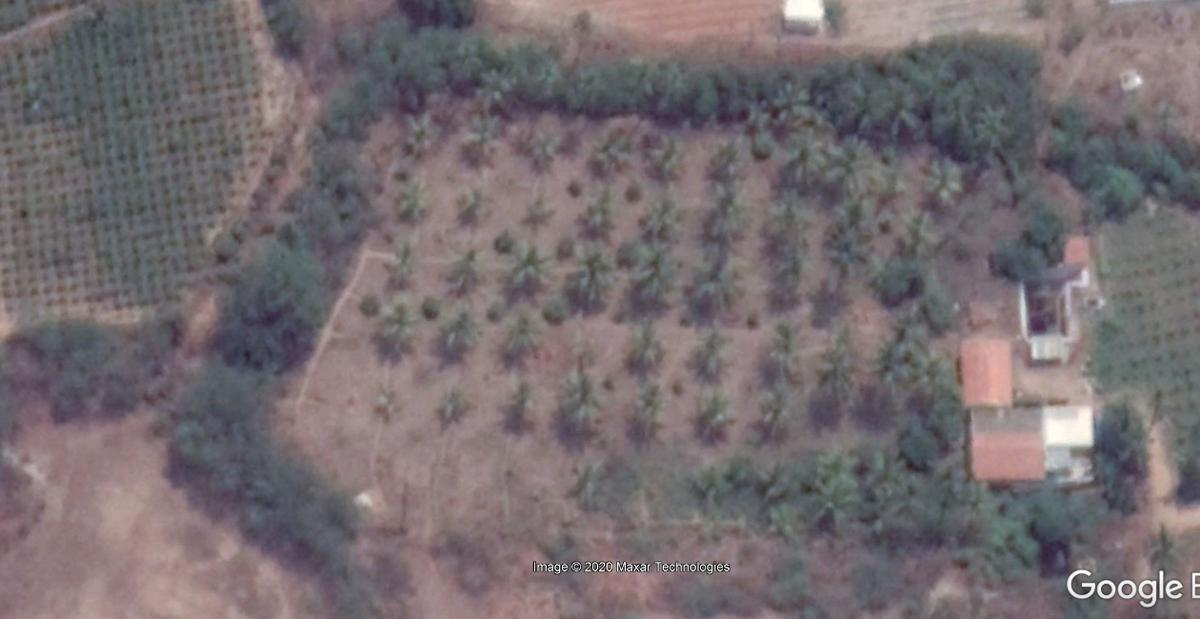coconut: (687, 251, 742, 319), (745, 461, 799, 530), (626, 247, 679, 310), (823, 134, 880, 190), (680, 459, 731, 518), (562, 245, 612, 302), (558, 381, 606, 440), (813, 469, 864, 521), (828, 189, 881, 239), (744, 390, 794, 441), (760, 185, 812, 234), (505, 244, 554, 294), (701, 181, 752, 229), (503, 198, 561, 238), (373, 300, 421, 347), (642, 127, 687, 175), (623, 384, 662, 439), (460, 107, 502, 156), (708, 133, 746, 187), (635, 194, 686, 233), (922, 156, 966, 201), (690, 396, 730, 444), (388, 171, 428, 219), (396, 107, 433, 157), (901, 208, 941, 253), (502, 321, 542, 364), (528, 122, 568, 164), (594, 125, 634, 167), (758, 327, 800, 367), (448, 181, 490, 219), (688, 332, 728, 371), (440, 319, 475, 362), (820, 332, 858, 371), (381, 240, 424, 274), (629, 330, 668, 367), (573, 190, 609, 229), (569, 326, 598, 369), (437, 386, 470, 421), (369, 386, 401, 419)
